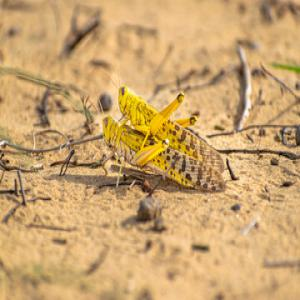locust: (110, 71, 220, 161), (97, 125, 194, 207)
